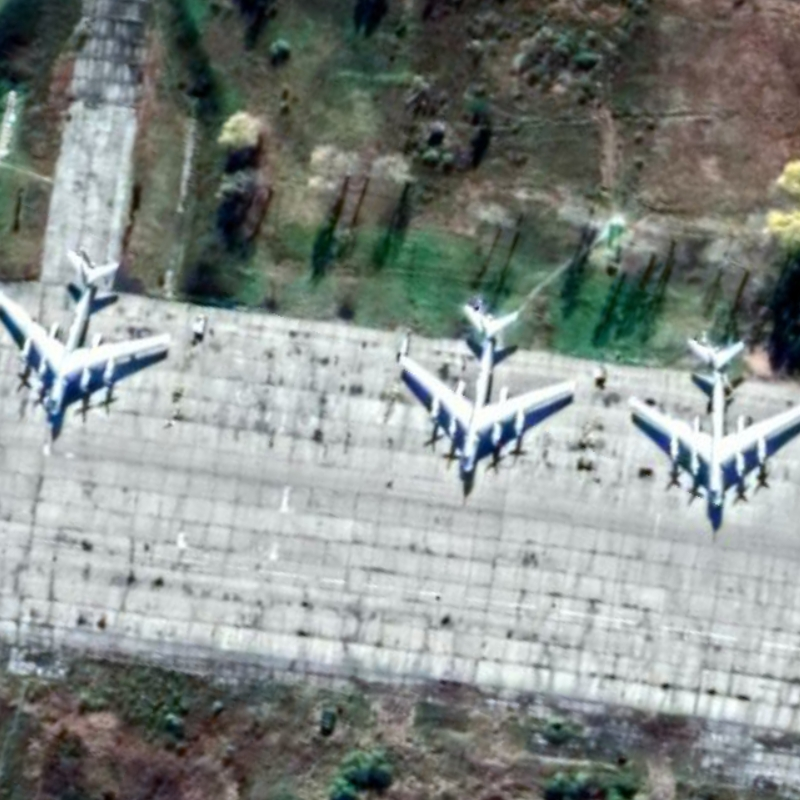A17: (625, 327, 800, 521), (395, 302, 577, 485), (1, 246, 175, 430)
